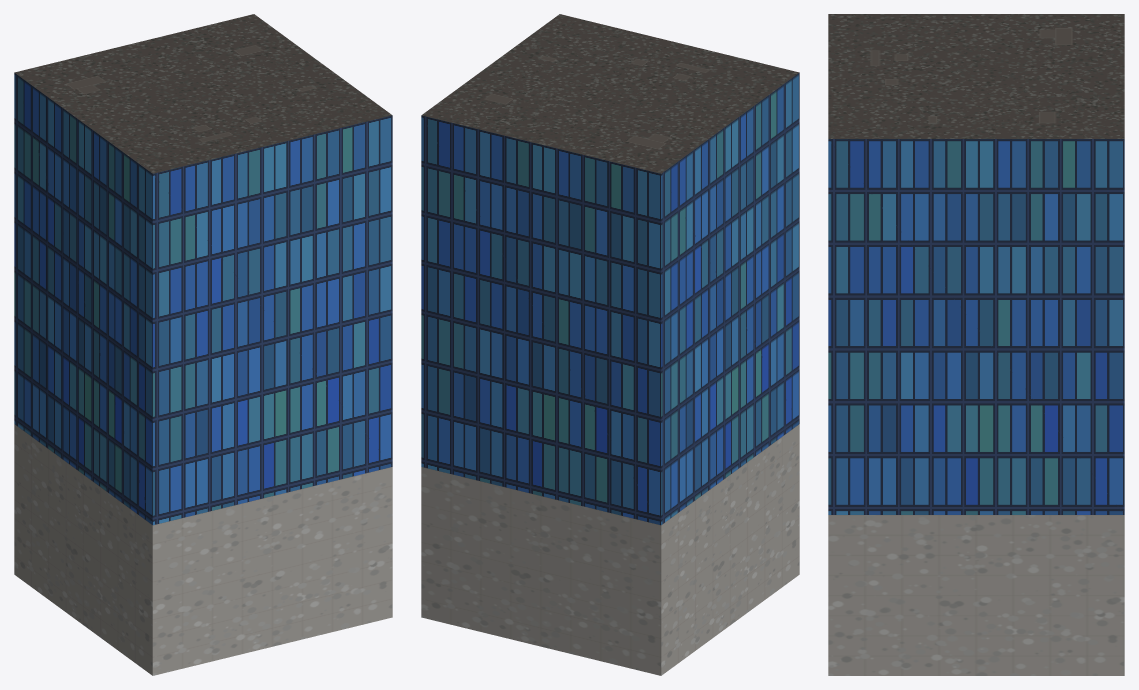
File: building_medium.obj
3 renders of one model, left to right at view 1: azimuth 30°, elevation 25°; view 2: azimuth 150°, elevation 25°; view 3: azimuth 270°, elevation 25°, orthographic. The views are drawn at different scales.
Bounding box in the file's own units: 10 × 20 × 10.
3 materials, 3 textured.
